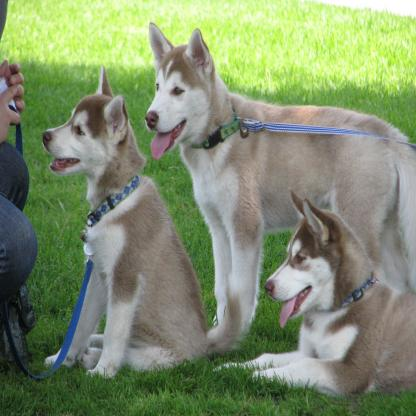dog: (141, 17, 416, 356), (37, 68, 210, 377), (215, 194, 416, 394)
